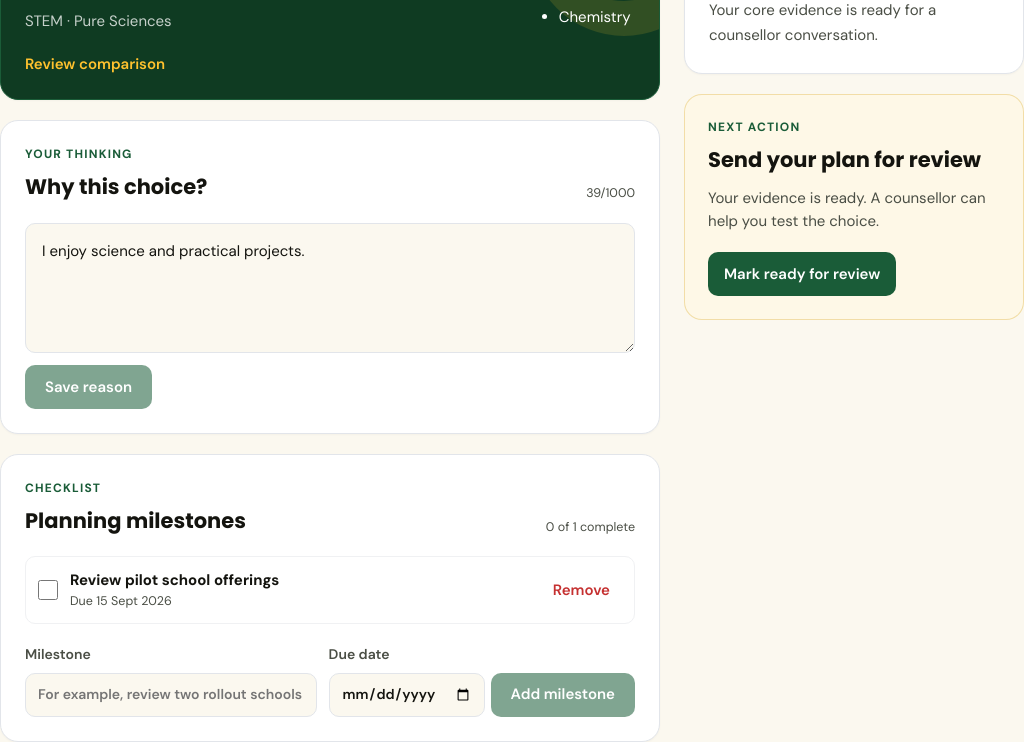
LearnerPlanPage › shows evidence, milestones, status and saves checklist progress
The image size is (1024, 742).
(page scrolled)
Step 1. Click the checkbox labelled "Review pilot school offerings Due 15 Sept 2026" → [48, 590], box [38,580,58,600]
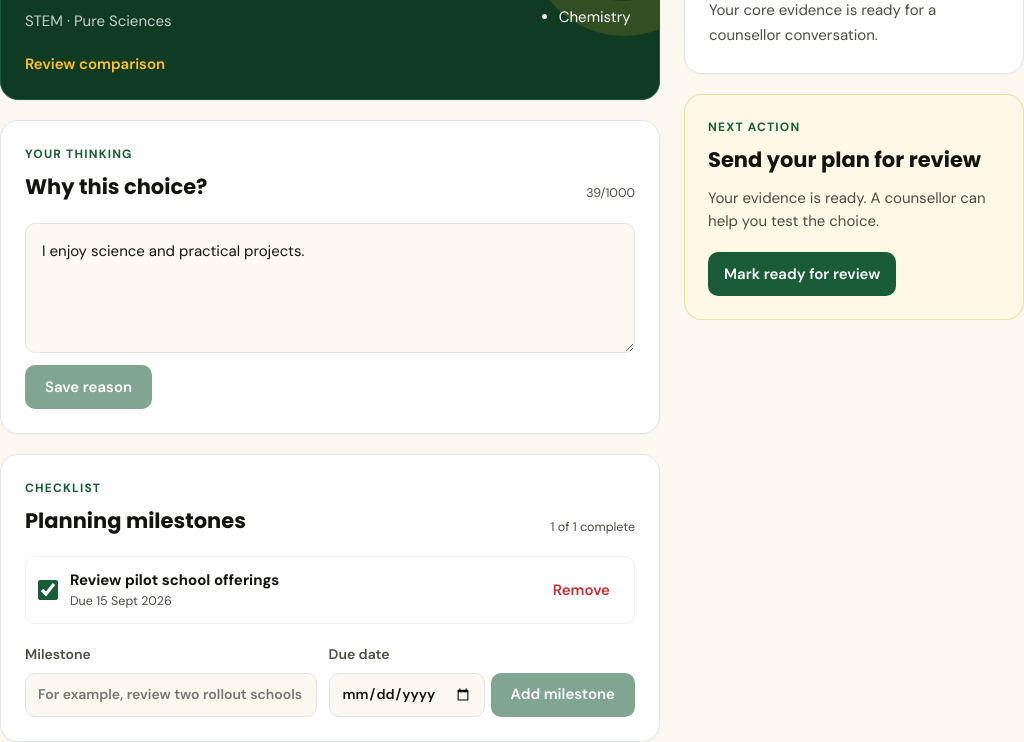
Check: the text "1 of 1 complete" is shown, box [550,518,635,536]
